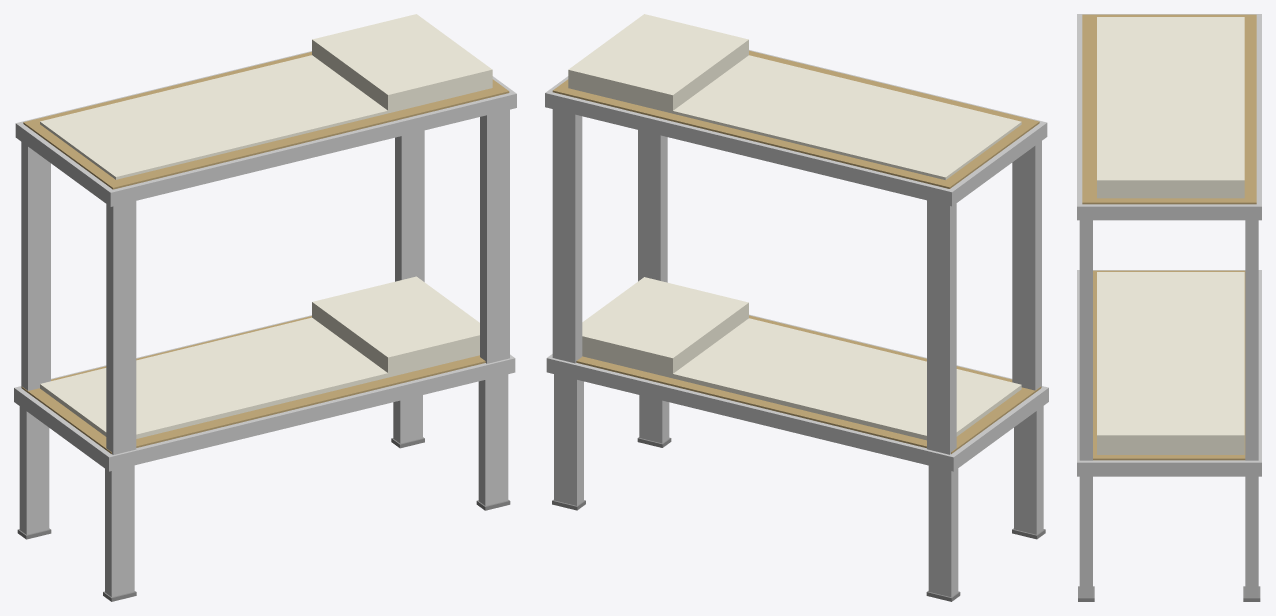
File: berth1.fbx
3 views of the same model, side by side, from view 1: azimuth 30°, elevation 25°; view 2: azimuth 150°, elevation 25°; view 3: azimuth 270°, elevation 25° (orthographic). The views are drawn at different scales.
Visible parts, largest first — view 1: Cube_4; view 2: Cube_4; view 3: Cube_4.
Part boxes in pixels (x1=…): Cube_4: x1=14, y1=14, x2=516, y2=601; Cube_4: x1=545, y1=14, x2=1048, y2=601; Cube_4: x1=1077, y1=14, x2=1261, y2=601.
Bounding box in the file's own units: 188 × 189 × 75.82.
